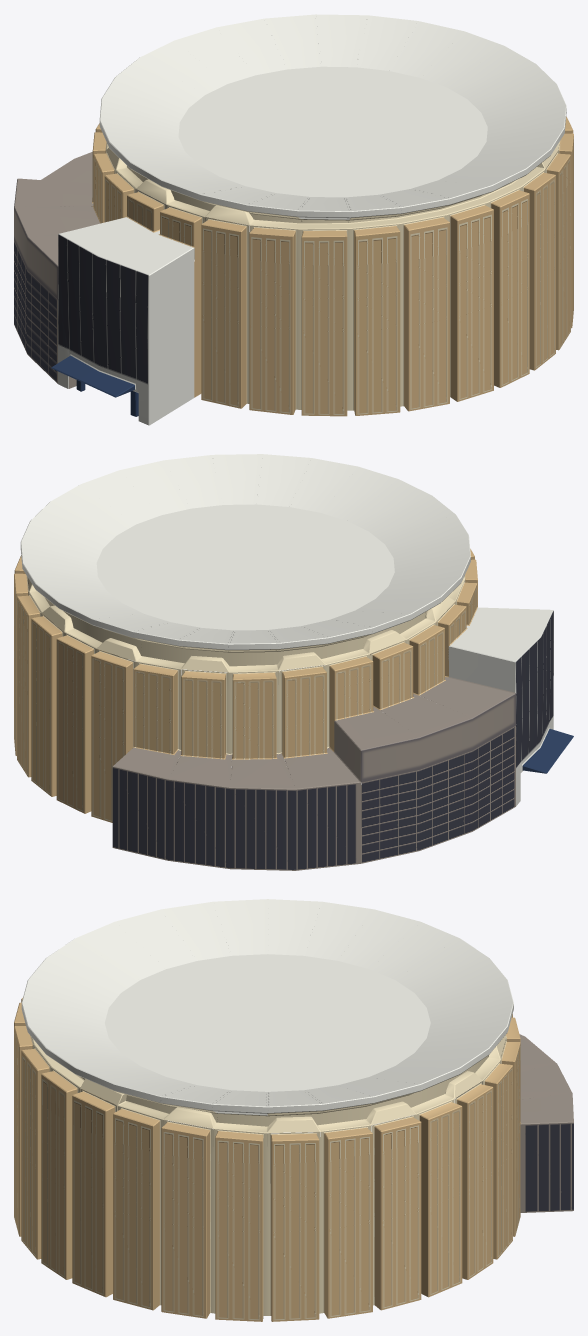
Rendered from Penn Station.fbx.
The picture shows the model from 3 angles, top to bottom: view 1: azimuth 30°, elevation 25°; view 2: azimuth 150°, elevation 25°; view 3: azimuth 270°, elevation 25°; orthographic projection. The views are drawn at different scales.
Visible parts, largest first — view 1: Penn Station; view 2: Penn Station; view 3: Penn Station.
Boxes of the visible parts, x1=… form: Penn Station: x1=14, y1=14, x2=573, y2=425; Penn Station: x1=14, y1=454, x2=573, y2=870; Penn Station: x1=14, y1=899, x2=573, y2=1321.
Bounding box in the file's own units: 6000 × 2285 × 5470.
Materials: 1 (1 with a texture image).
